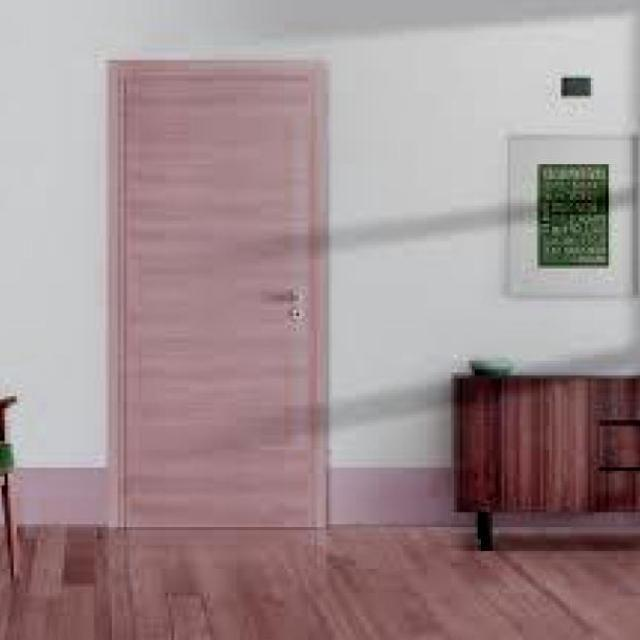door: (106, 58, 329, 530)
